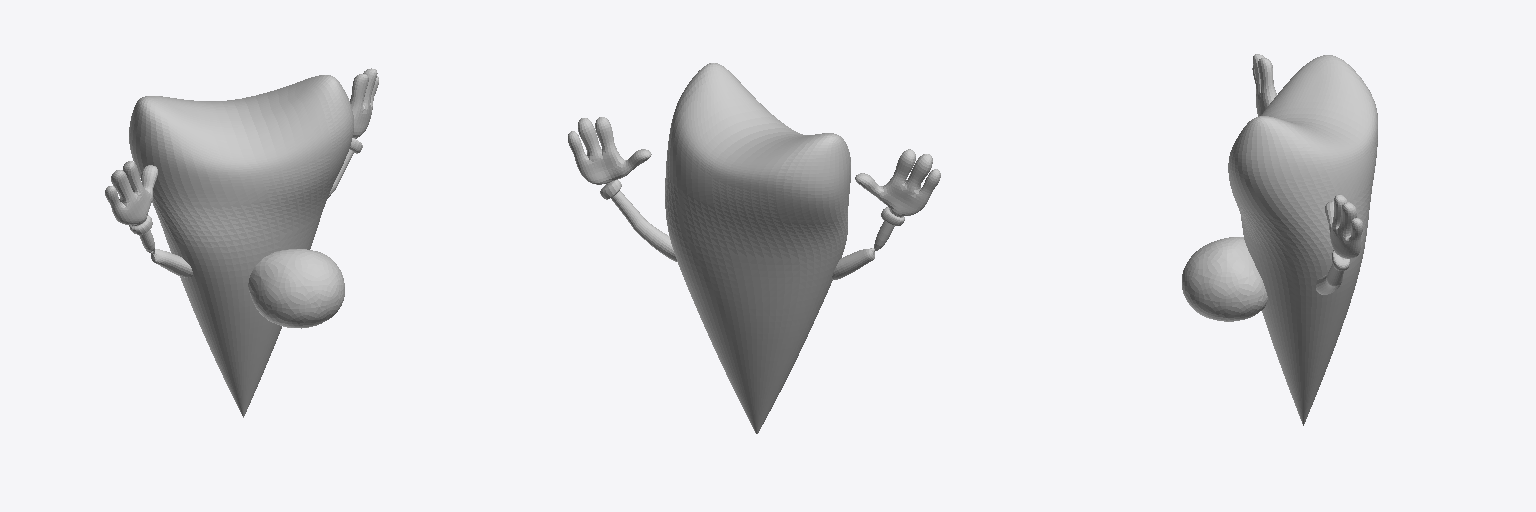
File: java-duke13.obj
3 renders of one model, left to right at view 1: azimuth 30°, elevation 25°; view 2: azimuth 150°, elevation 25°; view 3: azimuth 270°, elevation 25°, orthographic.
Visible parts, largest first — view 1: javadude, javadude_nase, javadude_hands; view 2: javadude, javadude_hands; view 3: javadude, javadude_nase, javadude_hands.
Part boxes in pixels (left/top/right/bottom): javadude: left=129, top=75, right=353, bottom=417; javadude_nase: left=248, top=249, right=344, bottom=328; javadude_hands: left=105, top=68, right=378, bottom=277; javadude: left=665, top=63, right=850, bottom=433; javadude_hands: left=568, top=117, right=940, bottom=279; javadude: left=1228, top=55, right=1377, bottom=425; javadude_nase: left=1182, top=237, right=1267, bottom=321; javadude_hands: left=1252, top=54, right=1362, bottom=294.
Bounding box in the file's own units: 3.97 × 4 × 2.1.